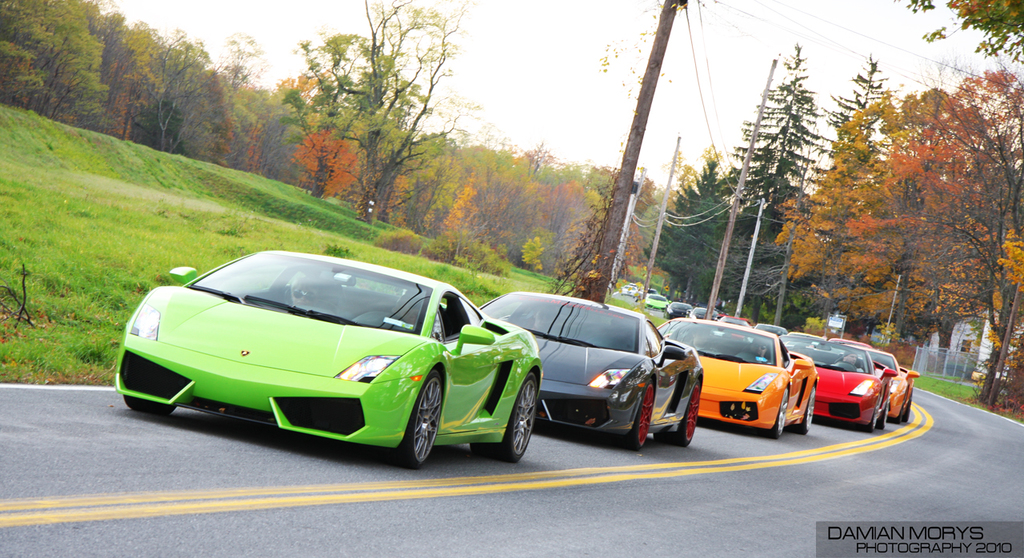Car: (115, 250, 535, 460), (476, 282, 920, 452), (967, 365, 1013, 381)
